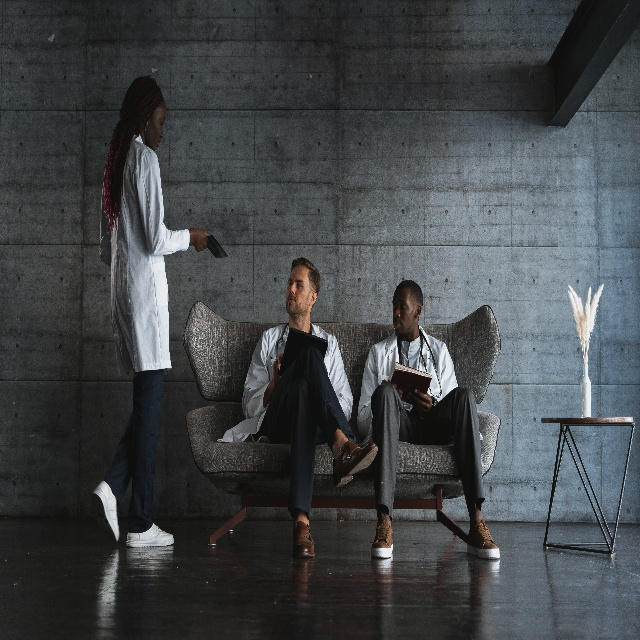Sin_guantes: (407, 386, 433, 412), (189, 225, 209, 253), (272, 355, 281, 385)
